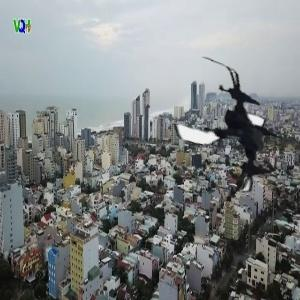drone: (160, 62, 292, 194)
